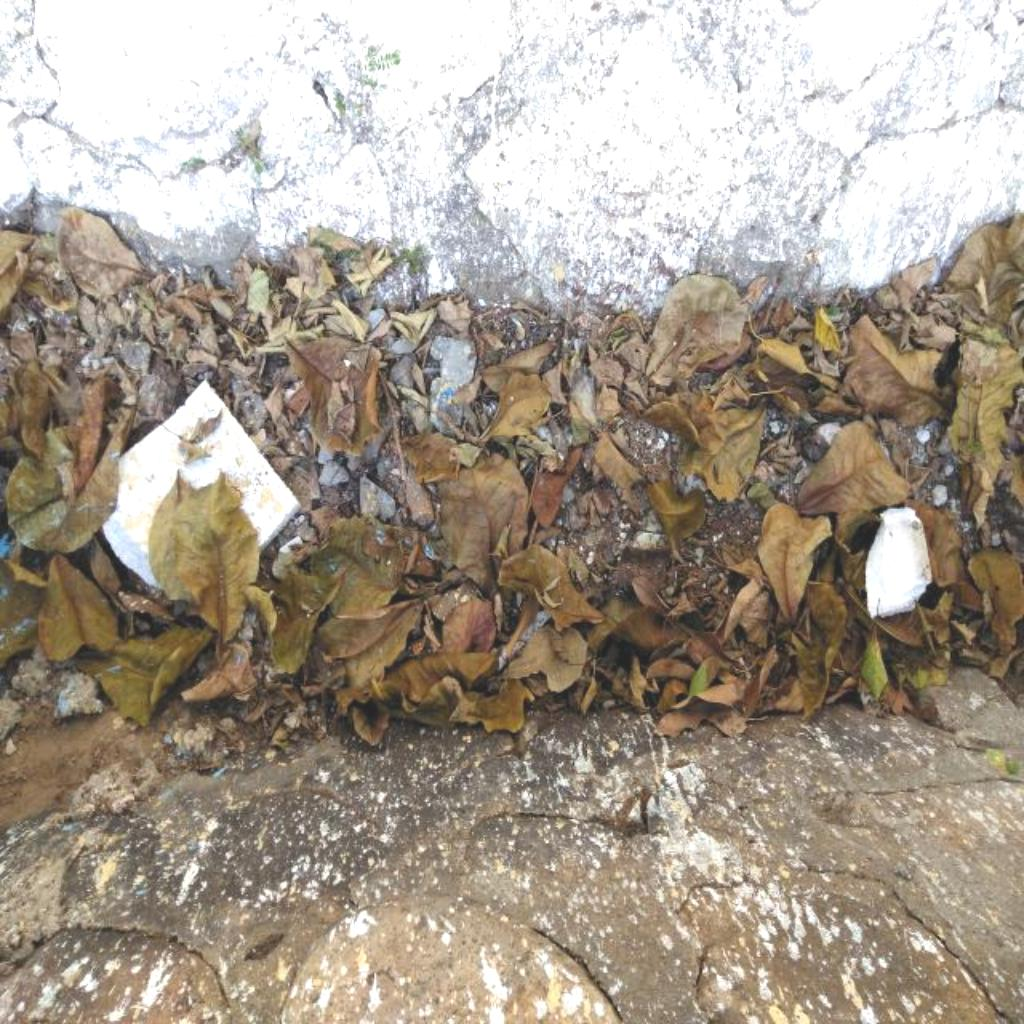garbage: (98, 402, 306, 611), (863, 505, 932, 620)
